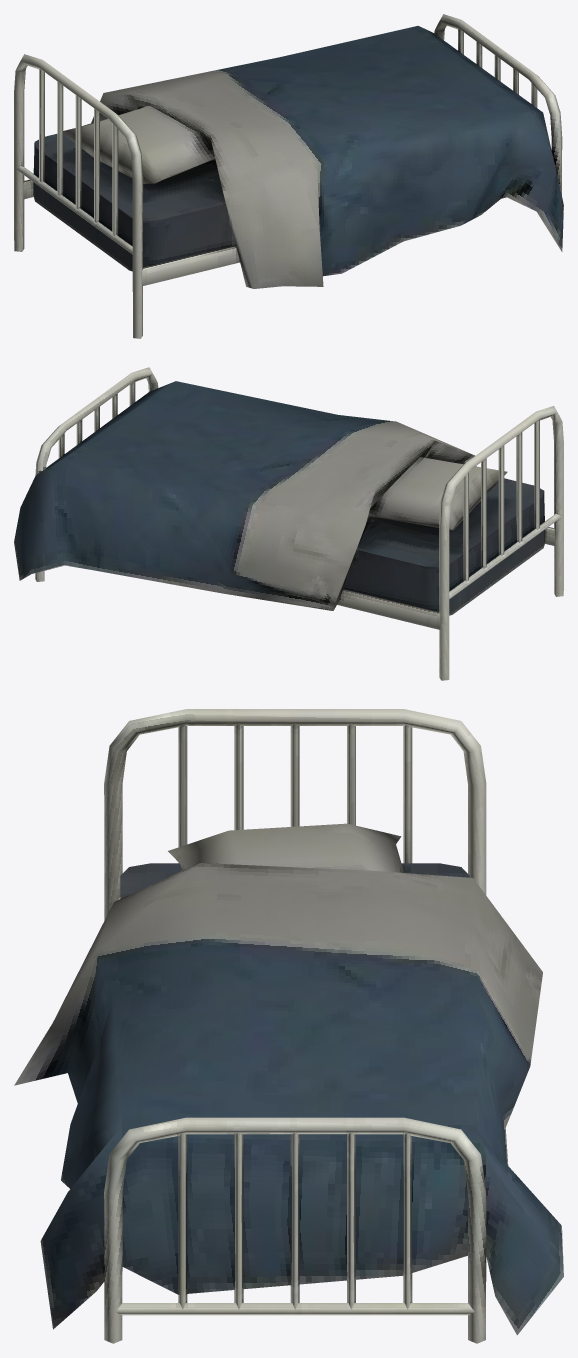
File: bed.glb
The picture shows the model from 3 angles, top to bottom: view 1: azimuth 30°, elevation 25°; view 2: azimuth 150°, elevation 25°; view 3: azimuth 270°, elevation 25°; orthographic projection. The views are drawn at different scales.
Parts seen in each view (by area): view 1: Object_4; view 2: Object_4; view 3: Object_4.
Boxes of the visible parts, bbox=[...] form: Object_4: bbox=[14, 14, 563, 338]; Object_4: bbox=[14, 367, 563, 680]; Object_4: bbox=[14, 709, 563, 1343].
Bounding box in the file's own units: 2.24 × 0.9983 × 1.56.
Materials: 1 (1 with a texture image).
